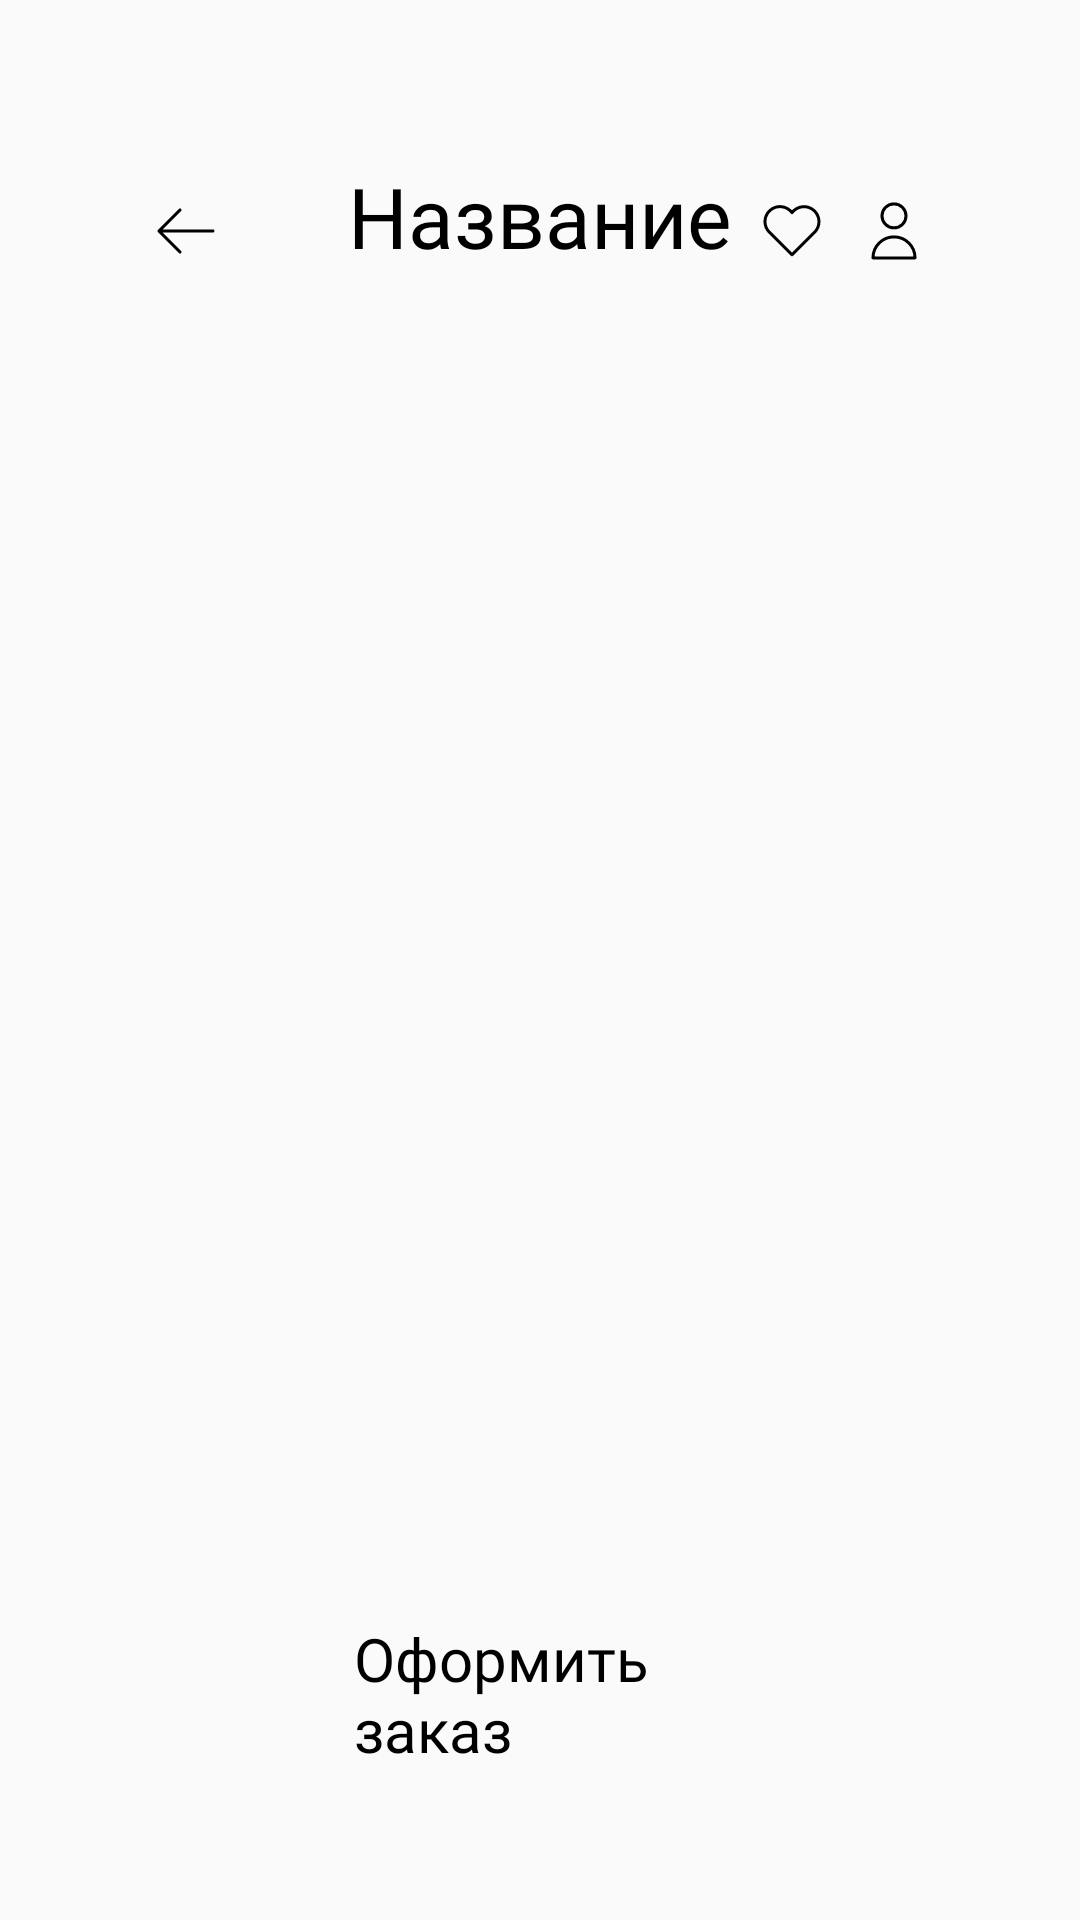

Named icons in this screenshot (1080 x 1920) and their centers, (x=x, y=y):
arrow left: (x=186, y=231)
player heart: (x=792, y=231)
user: (x=894, y=231)
